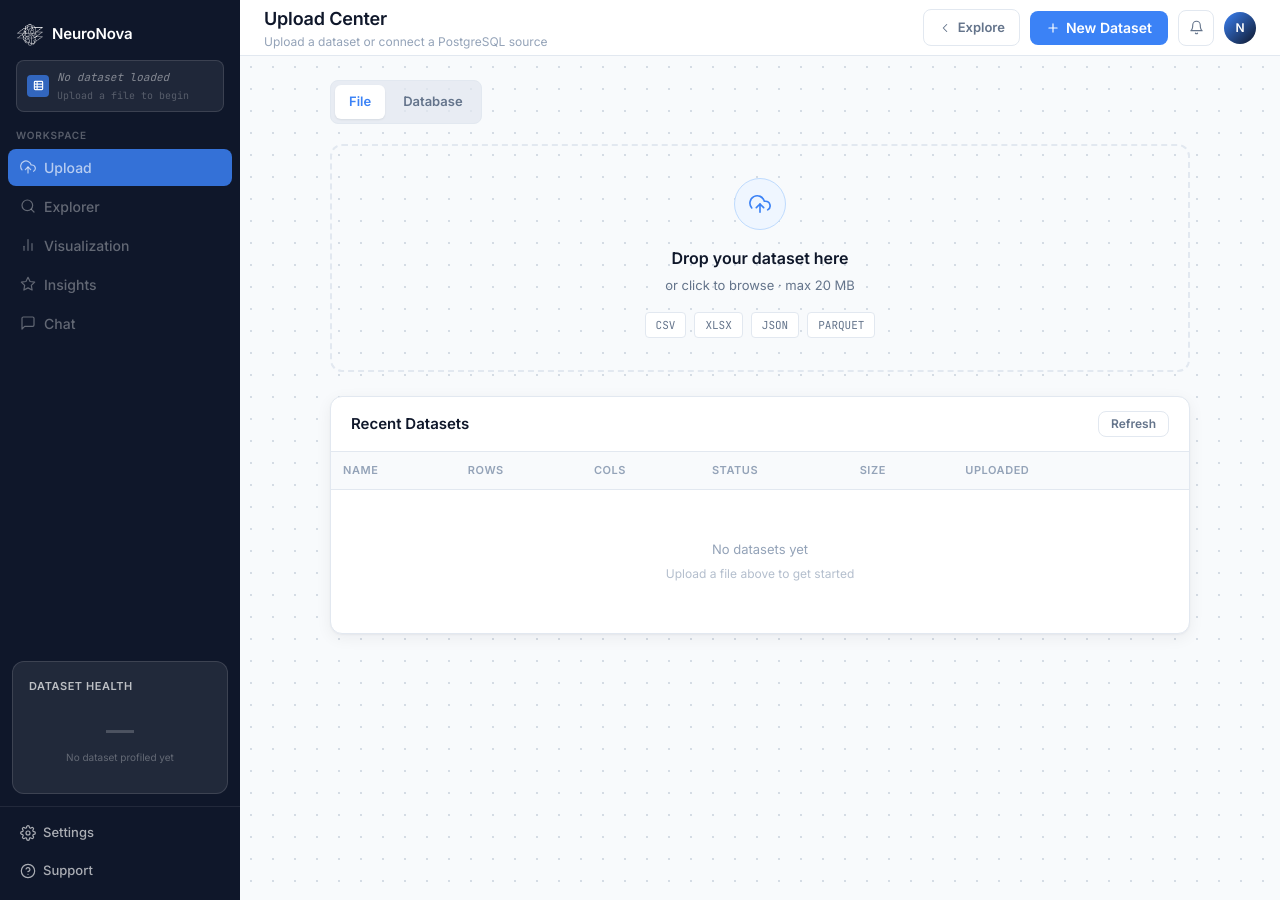
Test case: opens the saved-source metadata inspector without changing the file upload flow
Step 1. Click the tab "Database" → {"x": 433, "y": 102}, box [389,85,477,119]
(page scrolled)
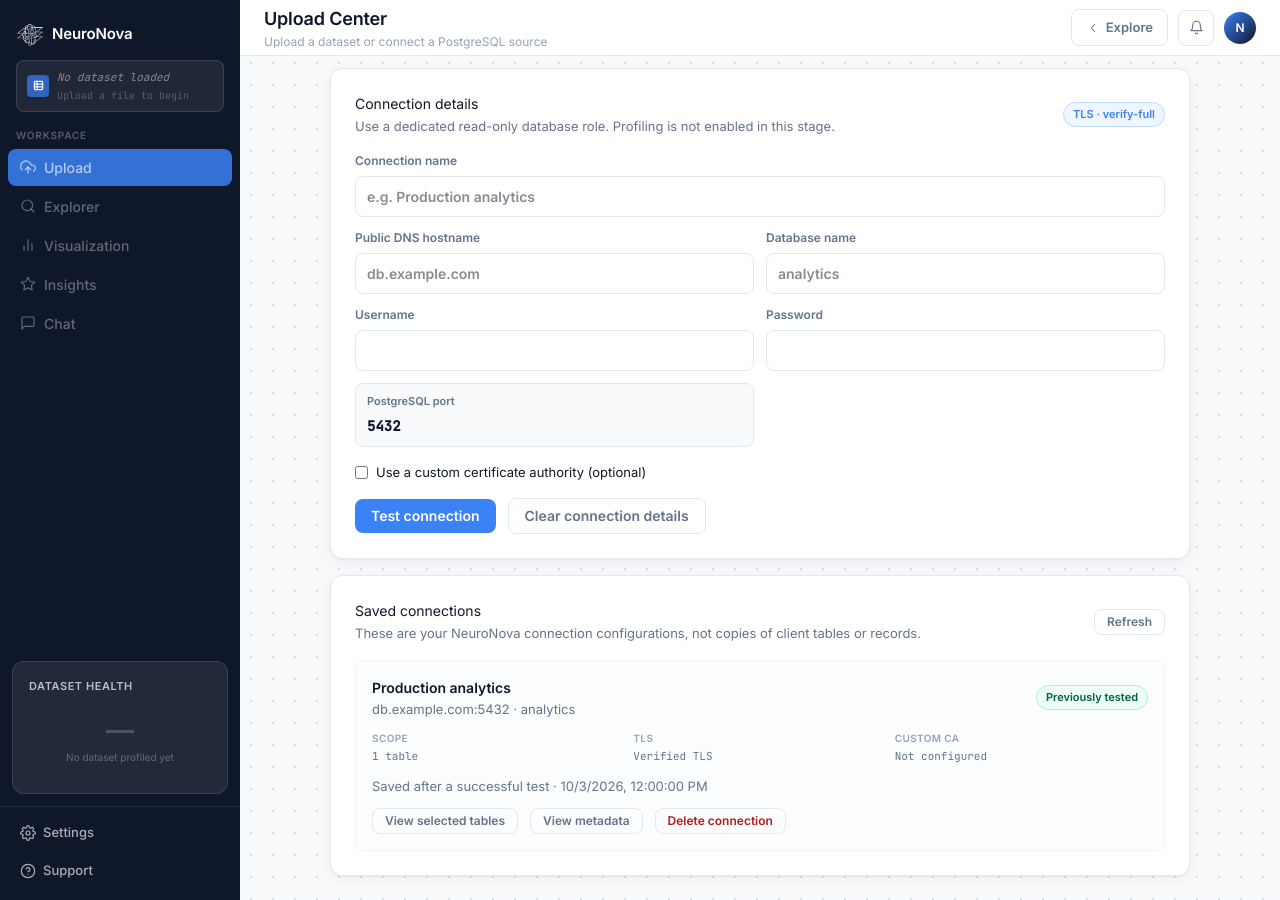
Result: the heading "Production analytics" is shown at [372,678,511,696]
Step 2. Click the button "View metadata" → {"x": 586, "y": 821}, box [530,808,642,834]
(page scrolled)
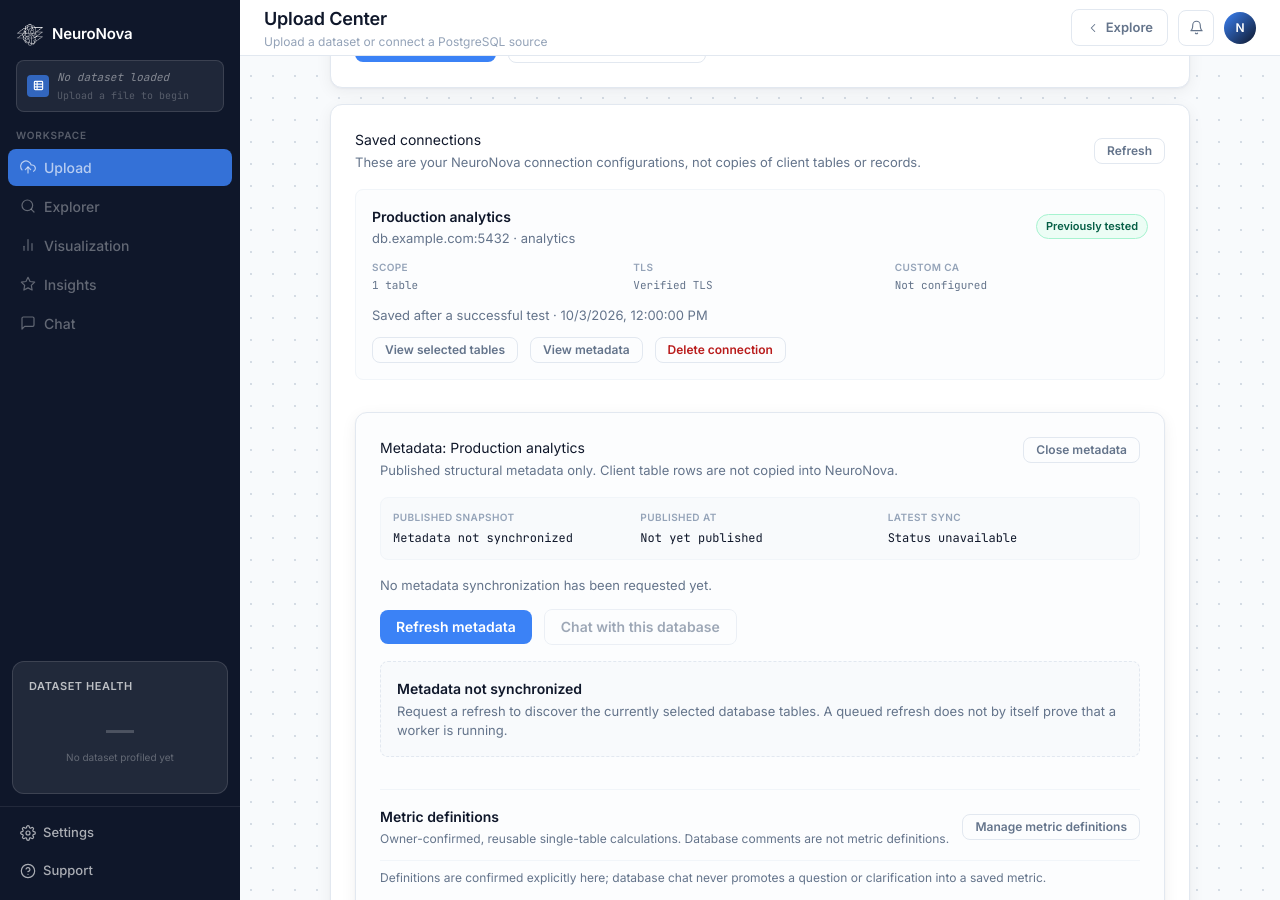
Result: the heading "Metadata: Production analytics" is shown at [380,439,585,456]
Result: the heading "Metadata not synchronized" is shown at [397,680,582,697]
Step 3. Click the button "Close metadata" → {"x": 1082, "y": 450}, box [1023,437,1140,463]
(page scrolled)
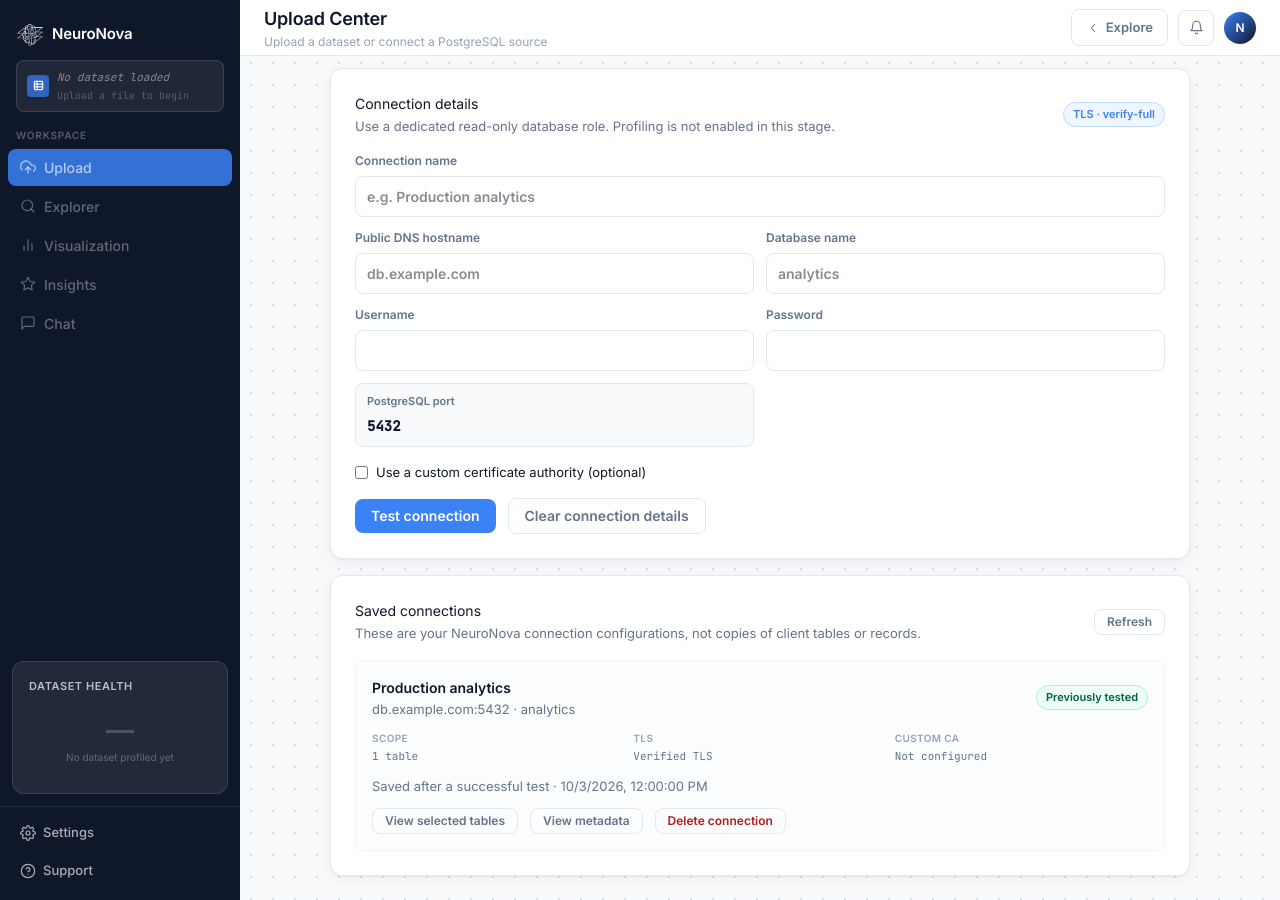
Result: the heading "Metadata: Production analytics" is gone
